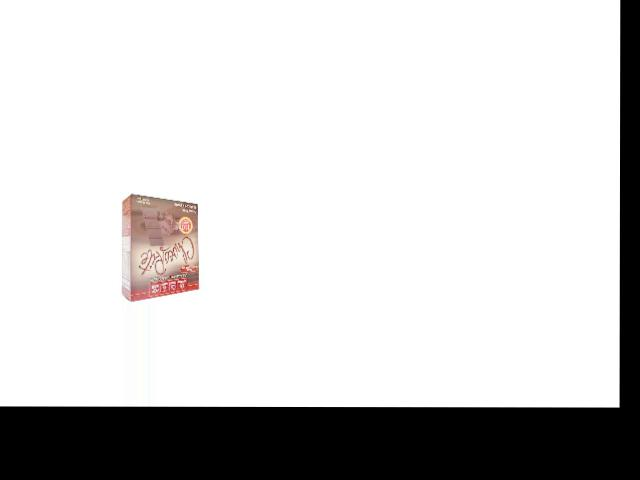chocolate: (122, 193, 201, 298)
